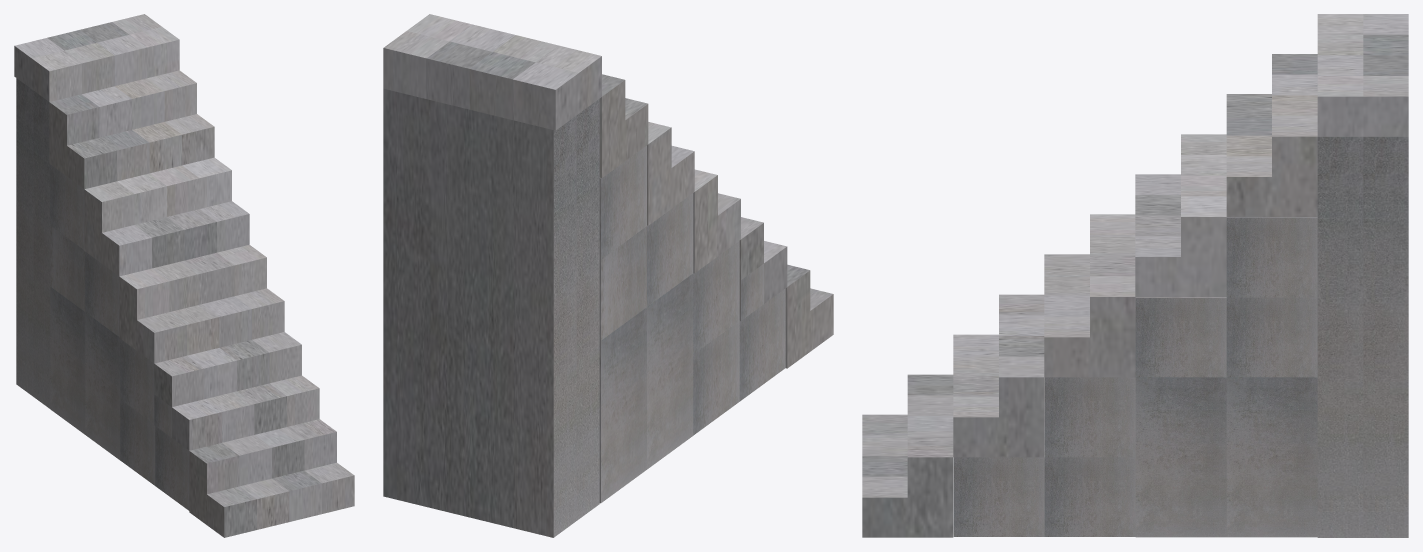
The model's file is Stairs.fbx.
3 renders of one model, left to right at view 1: azimuth 30°, elevation 25°; view 2: azimuth 150°, elevation 25°; view 3: azimuth 270°, elevation 25°, orthographic. The views are drawn at different scales.
Visible parts, largest first — view 1: Stairs; view 2: Stairs; view 3: Stairs.
Part boxes in pixels (left/top/right/bottom): Stairs: left=14, top=14, right=354, bottom=537; Stairs: left=383, top=14, right=833, bottom=537; Stairs: left=862, top=14, right=1408, bottom=537.
Size of the model in its own units: 800 by 1990 by 2233.
Materials: 1 (1 with a texture image).
